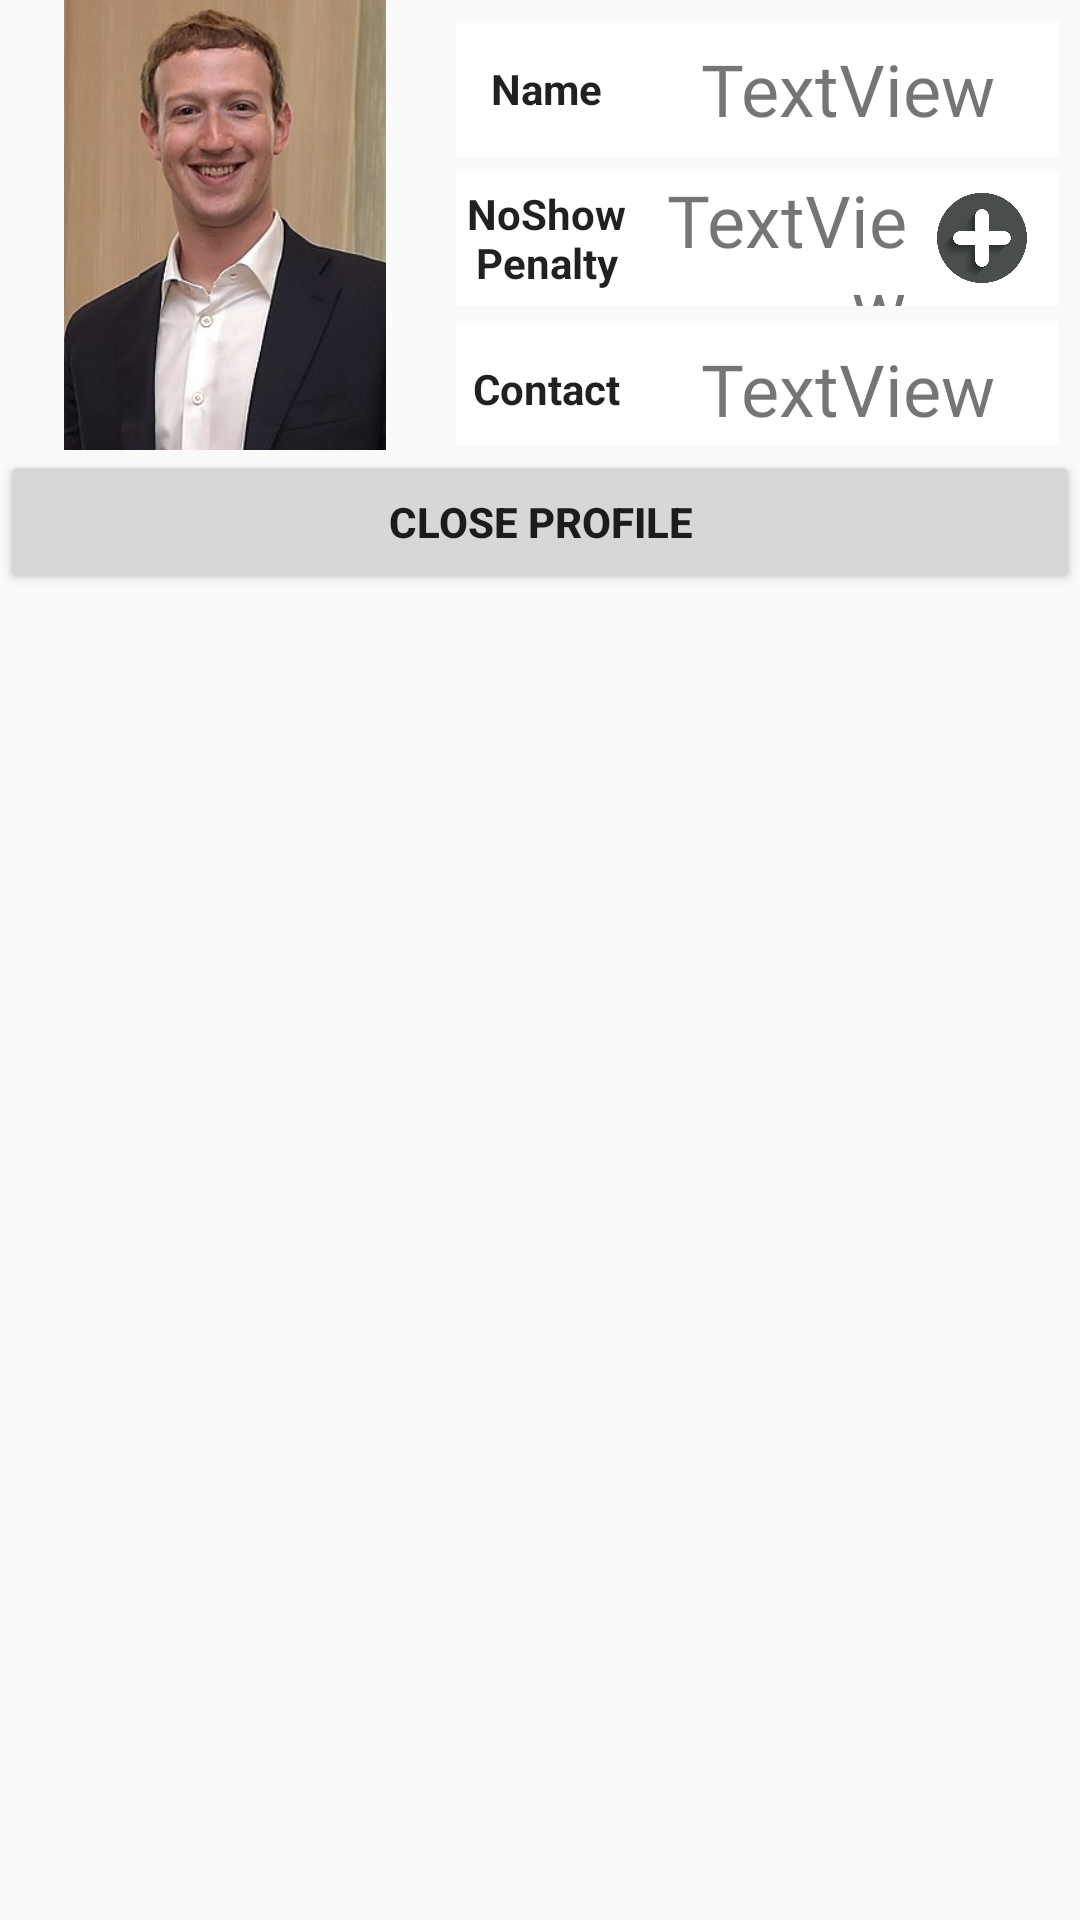

Where icons sit on this 1080×1920 app screen, as (x1, y1, x2, y2):
plus: (937, 193, 1027, 283)
